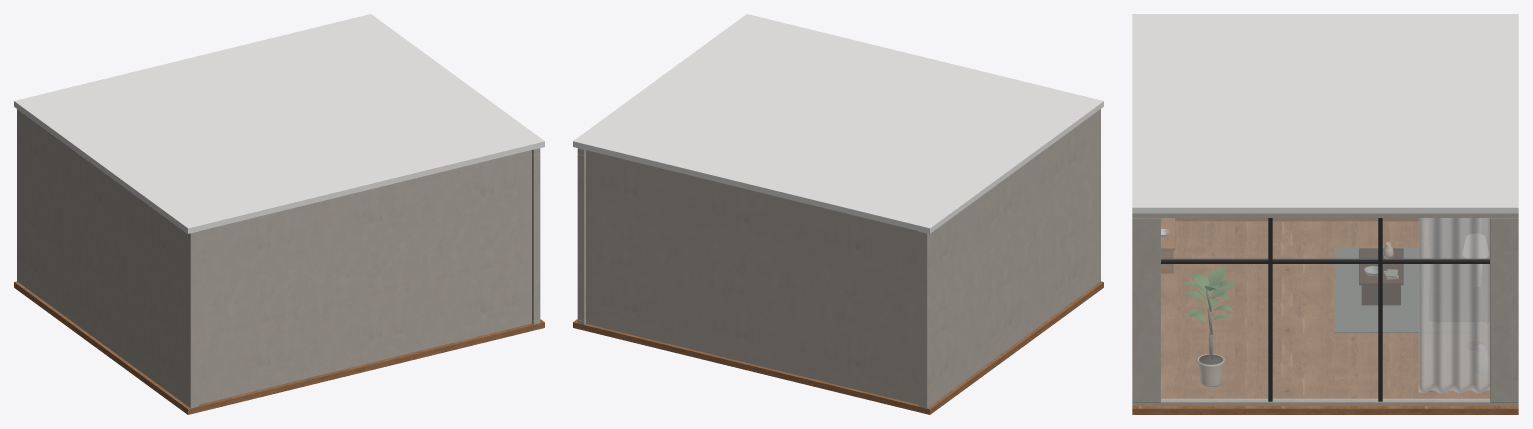
The model's file is livingroom.glb.
3 views of the same model, side by side, from view 1: azimuth 30°, elevation 25°; view 2: azimuth 150°, elevation 25°; view 3: azimuth 270°, elevation 25° (orthographic). The views are drawn at different scales.
Parts seen in each view (by area): view 1: Ceiling, Wall_South, Wall_Back, Floor, Window_Wall_Pier_L; view 2: Ceiling, Wall_North, Wall_Back, Floor, Window_Wall_Pier_R; view 3: Ceiling, Floor, Glass_Panel_1, Glass_Panel_3, Glass_Panel_2, Curtain_Sheer, Window_Wall_Pier_L, Window_Wall_Pier_R, Rug, Window_Wall_Sill, Window_Wall_Header, Table_Top (+9 smaller).
Boxes of the visible parts, x1,y1,x2,y2 form: Ceiling: [14, 14, 544, 233]; Wall_South: [199, 150, 531, 404]; Wall_Back: [17, 109, 198, 408]; Floor: [14, 281, 544, 414]; Window_Wall_Pier_L: [532, 154, 540, 320]; Ceiling: [573, 14, 1103, 233]; Wall_North: [586, 150, 918, 404]; Wall_Back: [919, 109, 1100, 408]; Floor: [573, 281, 1103, 414]; Window_Wall_Pier_R: [577, 154, 585, 320]; Ceiling: [1132, 14, 1518, 213]; Floor: [1132, 221, 1518, 414]; Glass_Panel_1: [1161, 218, 1267, 399]; Glass_Panel_3: [1383, 218, 1489, 399]; Glass_Panel_2: [1273, 218, 1377, 399]; Curtain_Sheer: [1418, 218, 1489, 393]; Window_Wall_Pier_L: [1132, 218, 1160, 402]; Window_Wall_Pier_R: [1490, 218, 1518, 402]; Rug: [1334, 247, 1418, 332]; Window_Wall_Sill: [1132, 398, 1518, 405]; Window_Wall_Header: [1132, 214, 1518, 217]; Table_Top: [1359, 248, 1403, 285].
Size of the model in its own units: 6.4 by 3.2 by 5.4.
19 materials, 5 textured.
